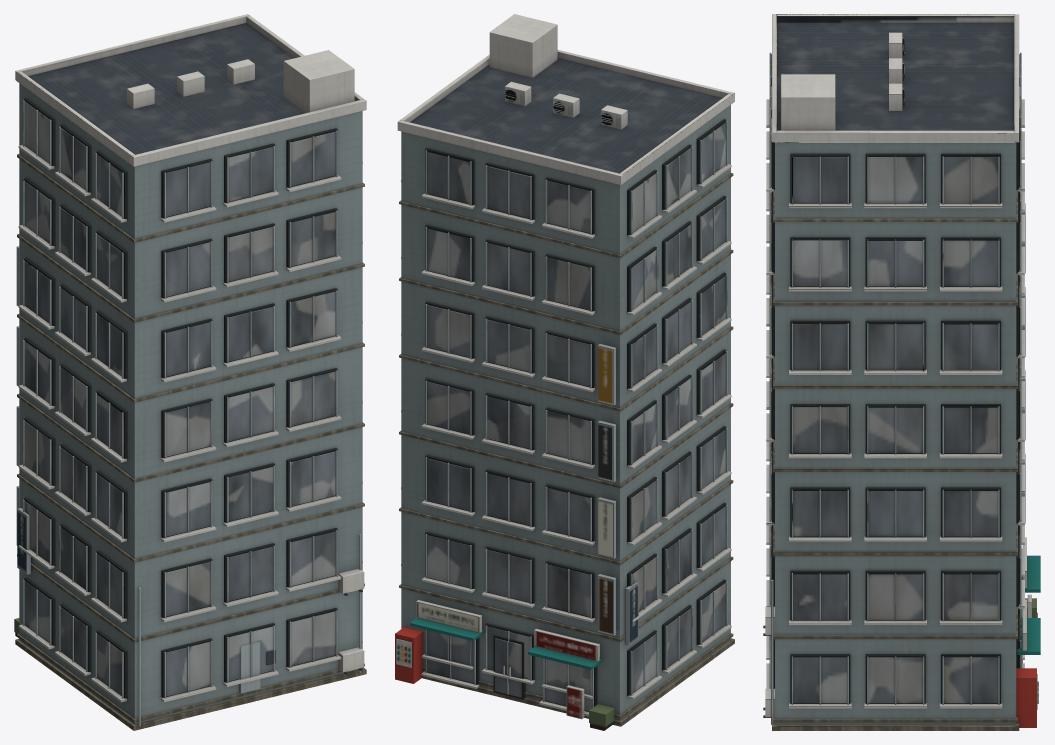
Rendered from shop_008.obj.
The picture shows the model from 3 angles, left to right: view 1: azimuth 30°, elevation 25°; view 2: azimuth 150°, elevation 25°; view 3: azimuth 270°, elevation 25°; orthographic projection. The views are drawn at different scales.
Visible parts, largest first — view 1: shop_008; view 2: shop_008; view 3: shop_008.
Boxes of the visible parts, box(x1,y1,x2,y2) form: shop_008: box(14, 14, 366, 730); shop_008: box(395, 14, 734, 730); shop_008: box(763, 14, 1040, 730).
Bounding box in the file's own units: 9.67 × 23.05 × 9.2.
1 material, 1 textured.
